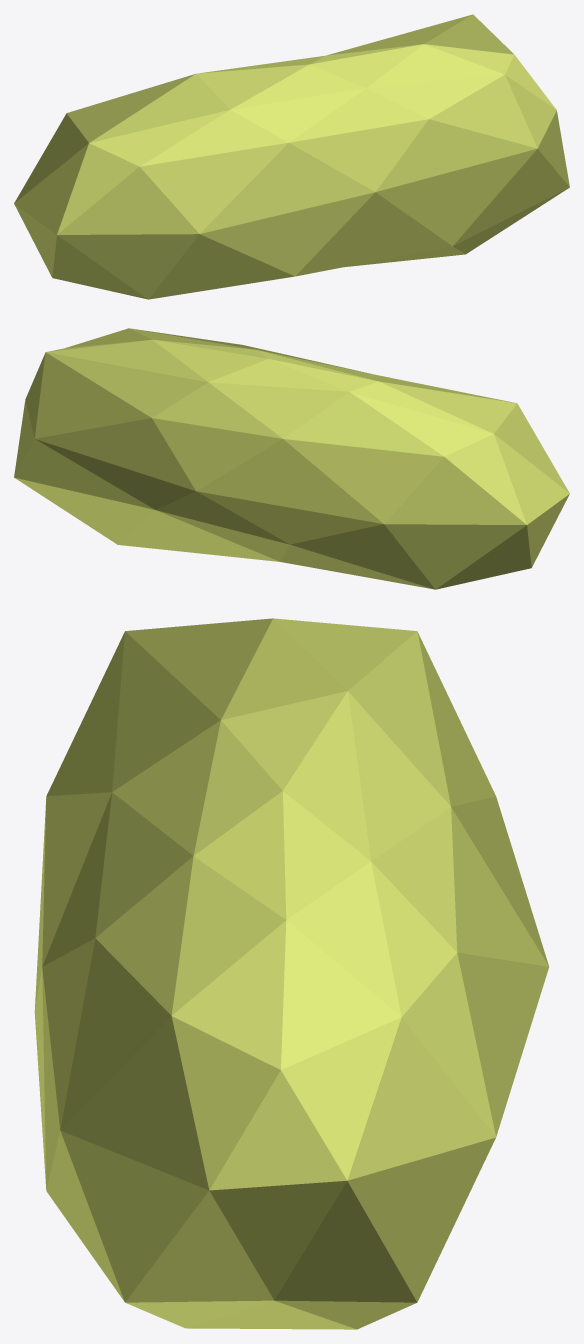
The model's file is peanut.gltf.
The picture shows the model from 3 angles, top to bottom: view 1: azimuth 30°, elevation 25°; view 2: azimuth 150°, elevation 25°; view 3: azimuth 270°, elevation 25°; orthographic projection. The views are drawn at different scales.
Parts seen in each view (by area): view 1: Icosphere; view 2: Icosphere; view 3: Icosphere.
Part boxes in pixels (left/top/right/bottom): Icosphere: left=14, top=14, right=569, bottom=299; Icosphere: left=14, top=328, right=569, bottom=589; Icosphere: left=34, top=618, right=548, bottom=1329.
Size of the model in its own units: 1.81 by 0.7092 by 0.7976.
